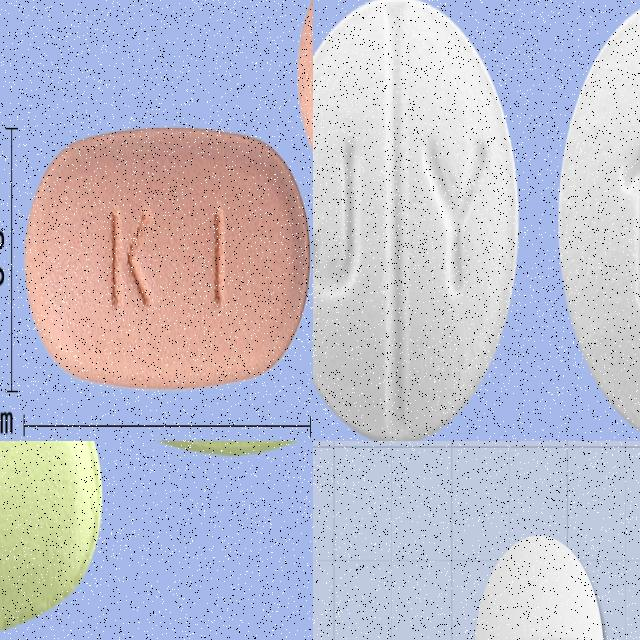Durova - 20mg: (313, 0, 521, 441), (558, 0, 640, 441)
Levogun: (23, 127, 312, 388)
Quinos Tab: (474, 533, 605, 640)
Reclarcin Tab: (0, 441, 101, 636)
